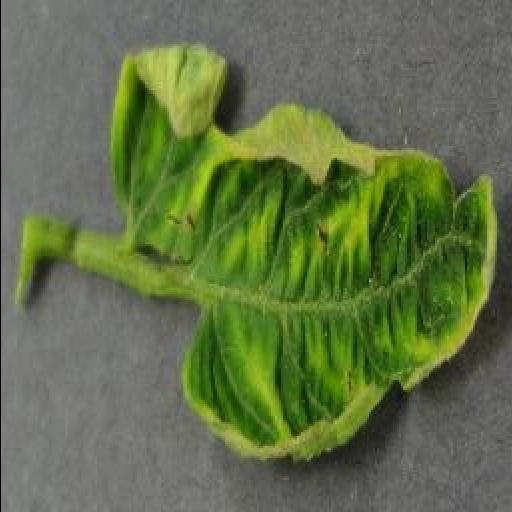disease_tomato: (110, 44, 506, 462)
